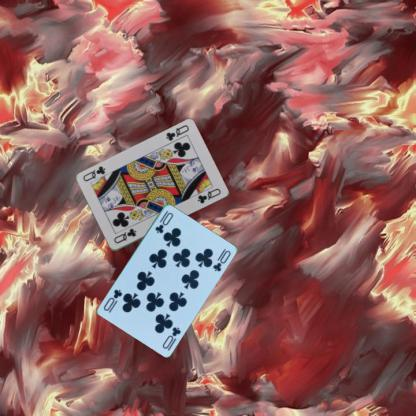10c: (159, 324, 182, 350), (152, 208, 174, 235)
Qc: (163, 123, 190, 142), (111, 226, 137, 245)
